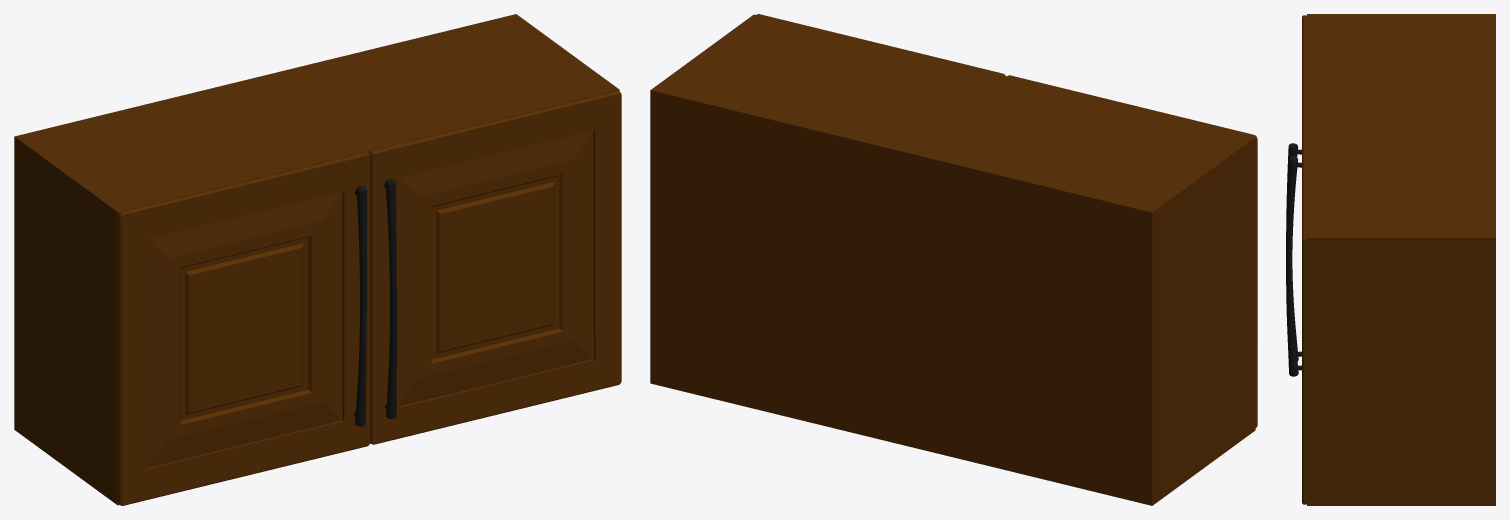
File: Model_Kitchen_Cupboard.fbx
3 renders of one model, left to right at view 1: azimuth 30°, elevation 25°; view 2: azimuth 150°, elevation 25°; view 3: azimuth 270°, elevation 25°, orthographic. The views are drawn at different scales.
Parts seen in each view (by area): view 1: Hung Cupboard Hi Poly; view 2: Hung Cupboard Hi Poly; view 3: Hung Cupboard Hi Poly.
Boxes of the visible parts, <box> form: Hung Cupboard Hi Poly: <box>14,14,621,505</box>; Hung Cupboard Hi Poly: <box>650,14,1257,505</box>; Hung Cupboard Hi Poly: <box>1286,14,1495,505</box>.
Bounding box in the file's own units: 36.3 × 20.27 × 14.38.
